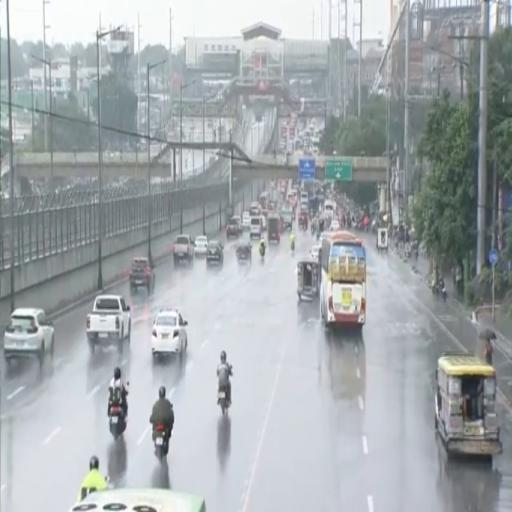bus: (320, 231, 366, 329), (71, 488, 206, 511)
car: (4, 309, 54, 365), (152, 308, 187, 357), (129, 258, 154, 292), (173, 235, 194, 265), (206, 240, 223, 264), (227, 217, 242, 237), (236, 243, 251, 262), (195, 236, 208, 255), (310, 245, 321, 261), (242, 212, 250, 230), (319, 232, 330, 244), (330, 220, 339, 232)
jeepney: (435, 352, 501, 455)
motorcycle: (109, 405, 126, 440), (153, 424, 169, 460), (218, 387, 230, 414), (439, 283, 446, 301), (259, 246, 265, 259), (405, 244, 410, 259), (311, 223, 315, 234), (316, 231, 320, 241), (291, 240, 294, 251)
truck: (87, 295, 130, 354)
